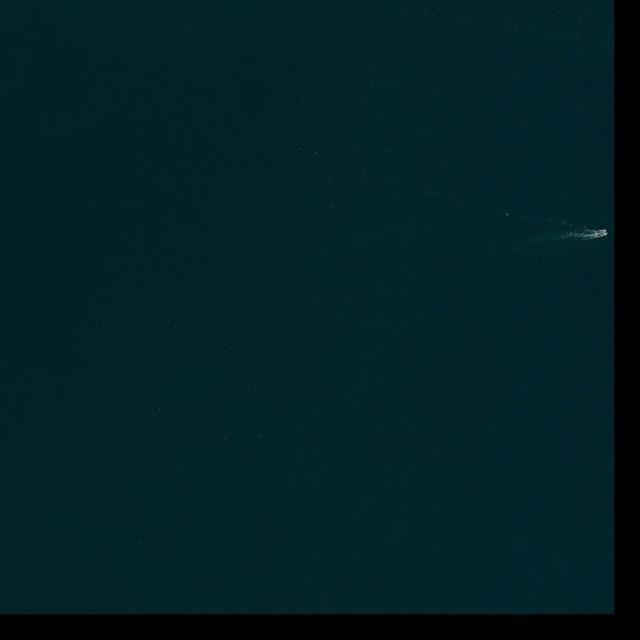ship: (598, 230, 609, 236)
